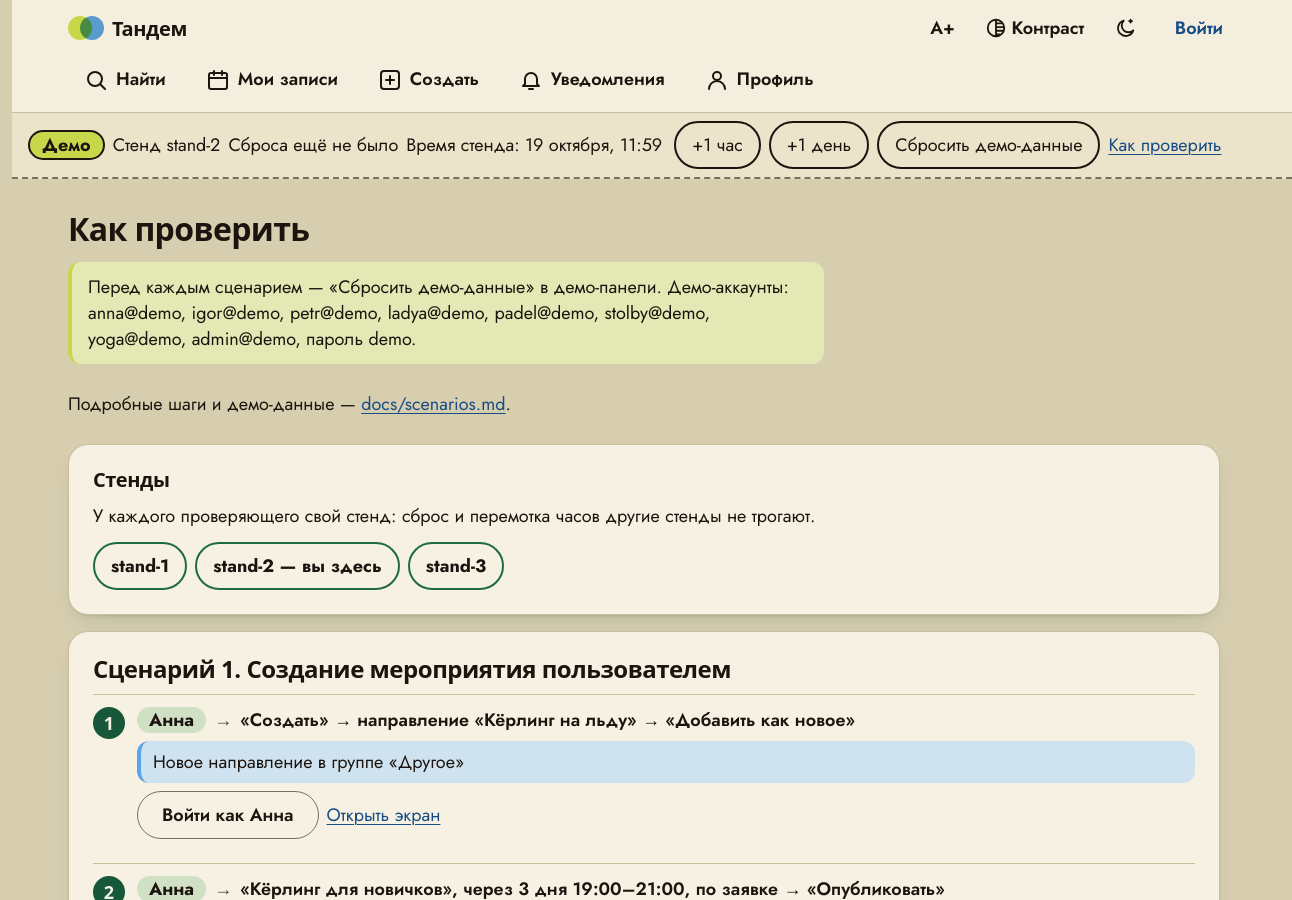
Test: страница /check «Как проверить» (ТЗ 4.6) › кнопка входа под демо-аккаунтом входит и открывает нужный экран
Click the button "Войти как Анна": {"x": 228, "y": 815} [137,791,318,839]
(page scrolled)
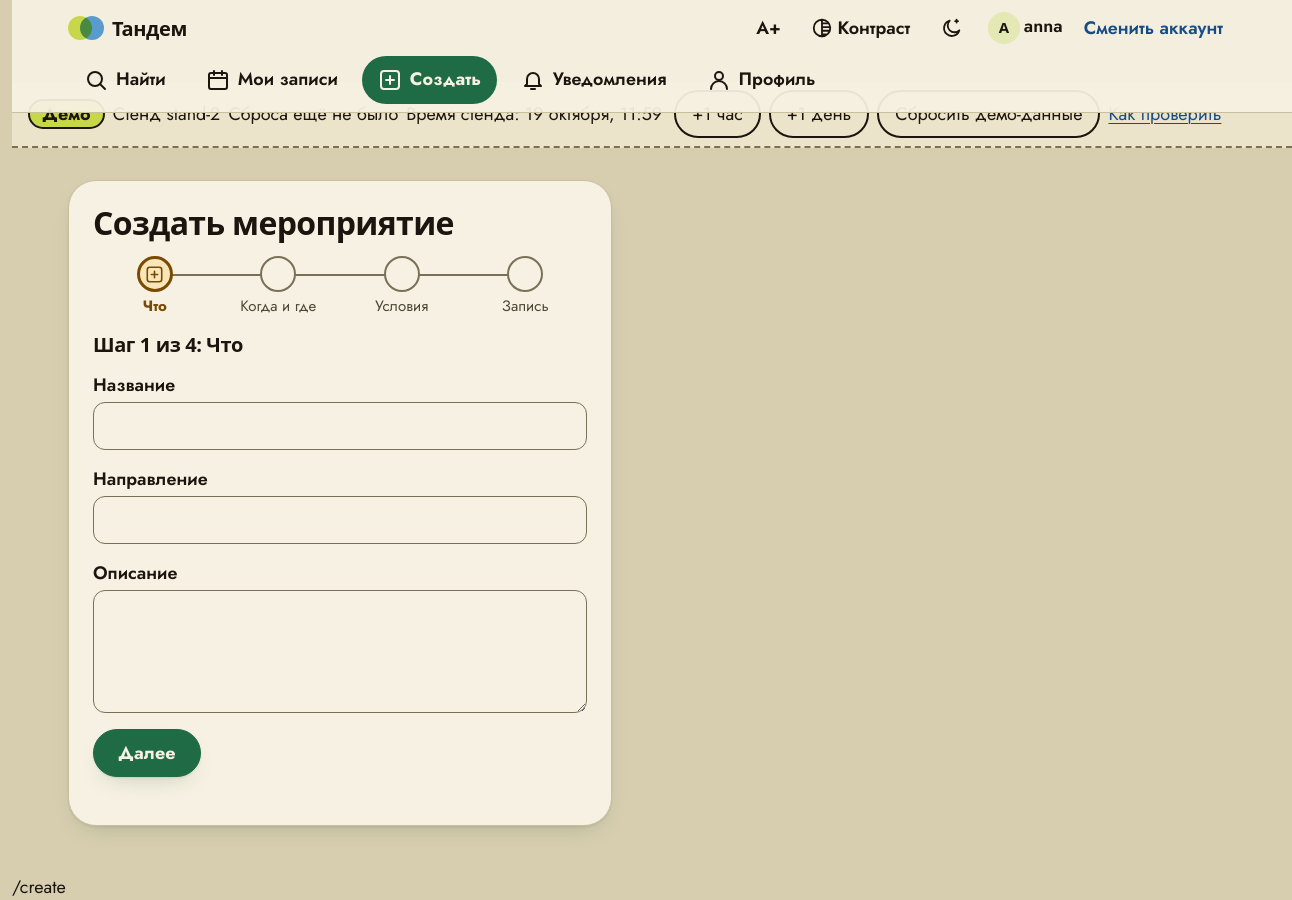
Check: the text with test id "where" reads "/create", box [12,874,66,899]
